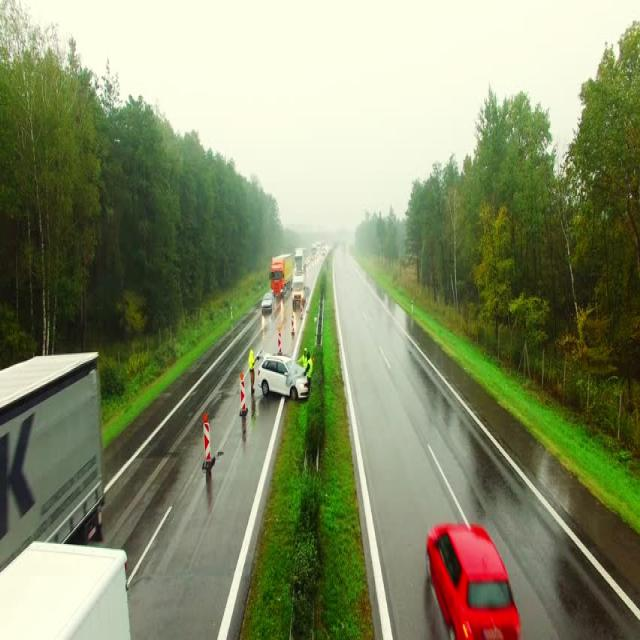Accident: (249, 345, 317, 425)
